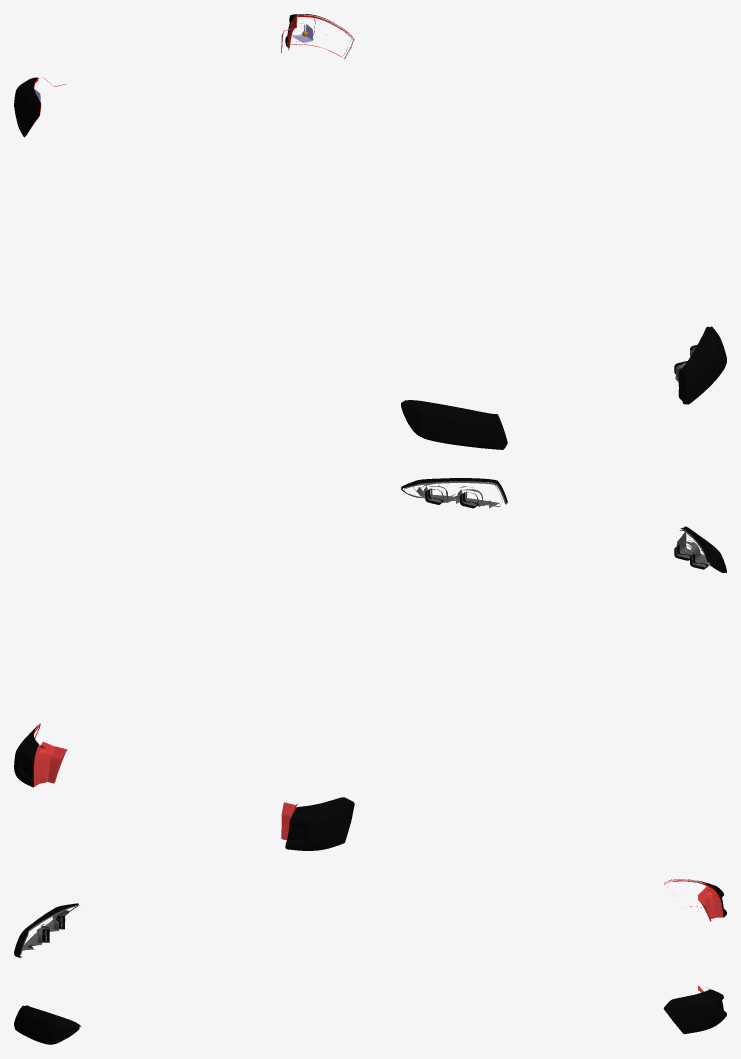
File: TOYOTA_URBAN_CRUISER_EX_LIGHTS_MESH.glb
3 views of the same model, one above another, from view 1: azimuth 30°, elevation 25°; view 2: azimuth 150°, elevation 25°; view 3: azimuth 270°, elevation 25° (orthographic). The views are drawn at different scales.
Visible parts, largest first — view 1: TOYOTA_URBAN_CRUISER_EX_LIGHTS_MESH; view 2: TOYOTA_URBAN_CRUISER_EX_LIGHTS_MESH; view 3: TOYOTA_URBAN_CRUISER_EX_LIGHTS_MESH.
Part boxes in pixels (x1=…): TOYOTA_URBAN_CRUISER_EX_LIGHTS_MESH: x1=14, y1=14, x2=726, y2=449; TOYOTA_URBAN_CRUISER_EX_LIGHTS_MESH: x1=14, y1=478, x2=726, y2=850; TOYOTA_URBAN_CRUISER_EX_LIGHTS_MESH: x1=14, y1=879, x2=726, y2=1044.
Size of the model in its own units: 1.62 by 0.3432 by 3.84.
